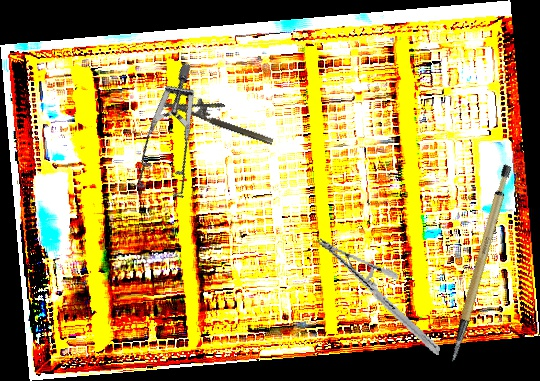Needle Holder: (299, 237, 460, 356), (160, 84, 279, 146)
Scalpel Handle: (419, 162, 538, 365)
Speculum: (98, 61, 253, 217)
